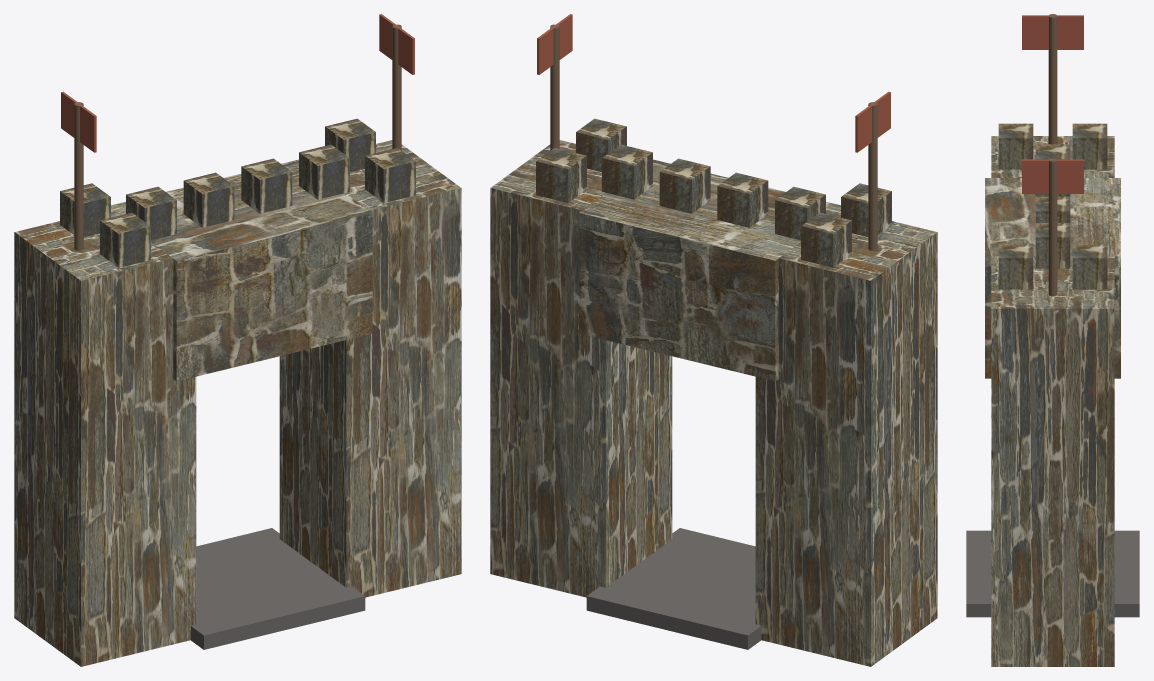
The model's file is structure_gatehouse.glb.
3 renders of one model, left to right at view 1: azimuth 30°, elevation 25°; view 2: azimuth 150°, elevation 25°; view 3: azimuth 270°, elevation 25°, orthographic. The views are drawn at different scales.
Parts seen in each view (by area): view 1: gh_tower_l, gh_tower_r, gh_bridge, gh_sill, gh_merlon_b1, gh_merlon_b2, gh_merlon_b3, gh_merlon_l0, gh_merlon_r0, gh_merlon_b0, gh_merlon_l1, gh_merlon_r1 (+4 smaller); view 2: gh_tower_l, gh_tower_r, gh_bridge, gh_sill, gh_merlon_b1, gh_merlon_b2, gh_merlon_b3, gh_merlon_l1, gh_merlon_r1, gh_merlon_b0, gh_merlon_l0, gh_merlon_r0 (+4 smaller); view 3: gh_tower_r, gh_bridge, gh_sill, gh_flag_l, gh_flag_r, gh_merlon_r0, gh_merlon_r1, gh_merlon_l0, gh_merlon_l1, gh_tower_l, gh_pole_r, gh_merlon_b3 (+3 smaller).
Part boxes in pixels (x1,y1,x2,y2): gh_tower_l: [14, 205, 196, 666]; gh_tower_r: [279, 140, 461, 597]; gh_bridge: [111, 159, 372, 381]; gh_sill: [190, 528, 365, 649]; gh_merlon_b1: [183, 172, 234, 227]; gh_merlon_b2: [241, 158, 292, 213]; gh_merlon_b3: [299, 144, 349, 199]; gh_merlon_l0: [100, 212, 150, 267]; gh_merlon_r0: [365, 148, 415, 202]; gh_merlon_b0: [126, 186, 176, 240]; gh_merlon_l1: [60, 183, 110, 236]; gh_merlon_r1: [325, 118, 375, 172]; gh_tower_l: [755, 205, 937, 666]; gh_tower_r: [490, 140, 672, 597]; gh_bridge: [579, 159, 840, 381]; gh_sill: [586, 528, 761, 649]; gh_merlon_b1: [717, 172, 768, 227]; gh_merlon_b2: [659, 158, 710, 213]; gh_merlon_b3: [602, 144, 652, 199]; gh_merlon_l1: [801, 212, 851, 267]; gh_merlon_r1: [536, 148, 586, 202]; gh_merlon_b0: [775, 186, 825, 240]; gh_merlon_l0: [841, 183, 891, 236]; gh_merlon_r0: [576, 118, 626, 172]; gh_tower_r: [991, 256, 1114, 666]; gh_bridge: [985, 178, 1120, 378]; gh_sill: [966, 530, 1139, 617]; gh_flag_l: [1022, 15, 1083, 49]; gh_flag_r: [1022, 159, 1083, 193]; gh_merlon_r0: [998, 243, 1033, 289]; gh_merlon_r1: [1072, 243, 1107, 289]; gh_merlon_l0: [998, 123, 1033, 169]; gh_merlon_l1: [1072, 123, 1107, 169]; gh_tower_l: [991, 136, 1114, 177]; gh_pole_r: [1048, 158, 1057, 296]; gh_merlon_b3: [1035, 223, 1070, 268].
Size of the model in its own units: 3.3 by 4.4 by 1.4.
Materials: 4 (1 with a texture image).
